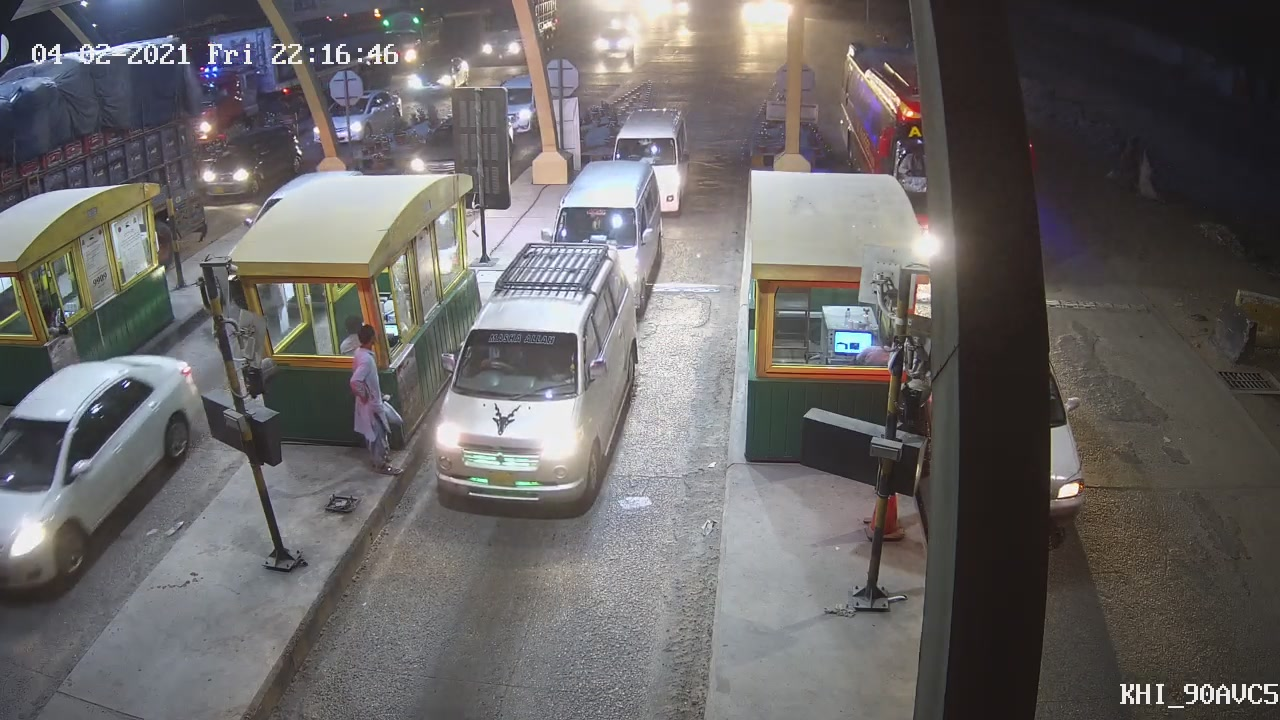F1: (429, 246, 647, 514)
